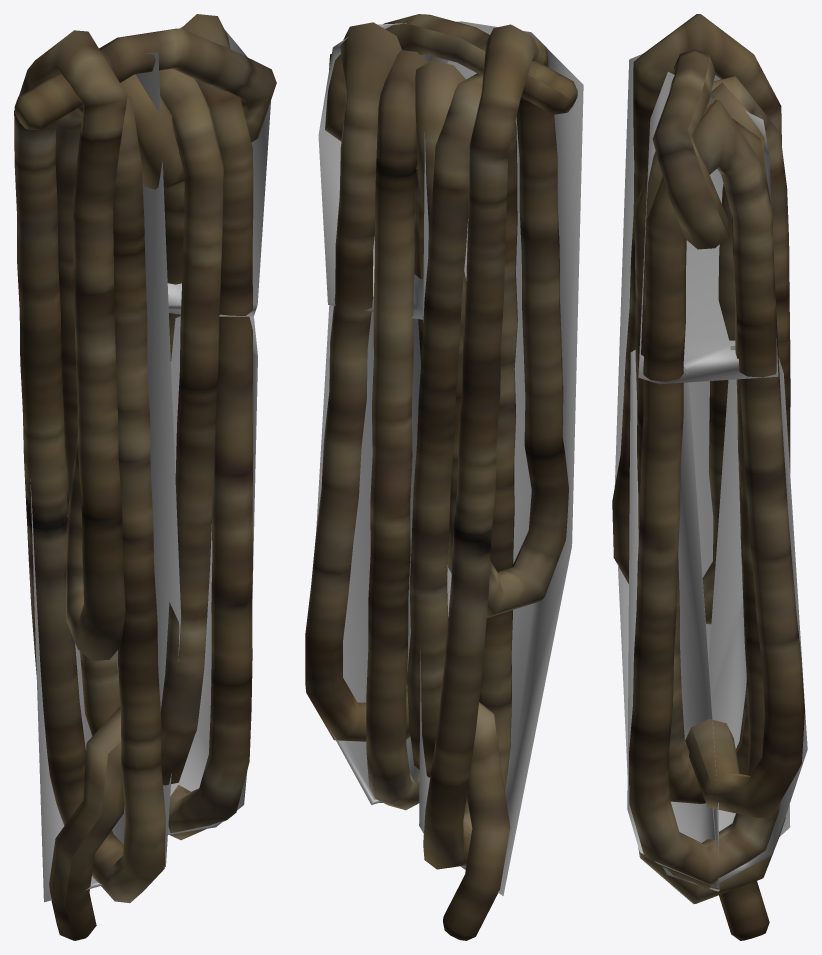
The model's file is SM_Rope_03.gltf.
The picture shows the model from 3 angles, left to right: view 1: azimuth 30°, elevation 25°; view 2: azimuth 150°, elevation 25°; view 3: azimuth 270°, elevation 25°; orthographic projection. The views are drawn at different scales.
Visible parts, largest first — view 1: SM_Rope_03_LOD0, SM_Rope_03_ConvexHulls; view 2: SM_Rope_03_LOD0, SM_Rope_03_ConvexHulls; view 3: SM_Rope_03_LOD0, SM_Rope_03_ConvexHulls.
Boxes of the visible parts, <box> form: SM_Rope_03_LOD0: <box>14,14,276,940</box>; SM_Rope_03_ConvexHulls: <box>30,26,270,902</box>; SM_Rope_03_LOD0: <box>305,14,577,940</box>; SM_Rope_03_ConvexHulls: <box>316,21,583,895</box>; SM_Rope_03_LOD0: <box>612,14,804,940</box>; SM_Rope_03_ConvexHulls: <box>614,54,807,891</box>.
Size of what is drawn, in the model's own units: 0.3552 by 1.24 by 0.2412.
